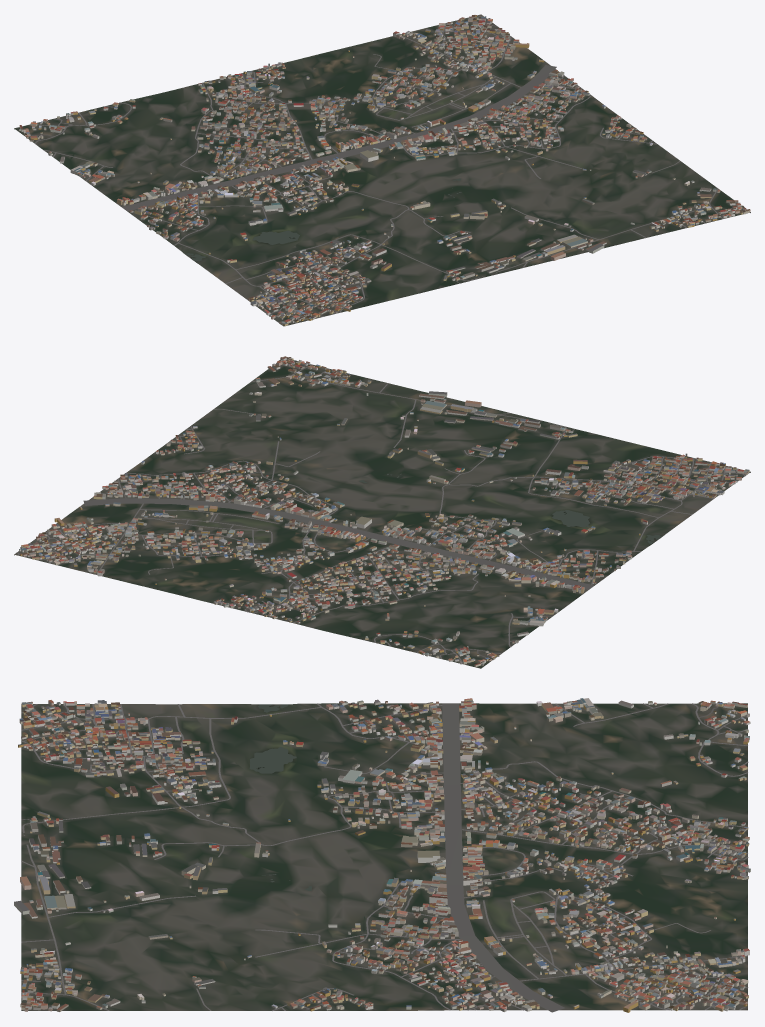
The picture shows the model from 3 angles, top to bottom: view 1: azimuth 30°, elevation 25°; view 2: azimuth 150°, elevation 25°; view 3: azimuth 270°, elevation 25°; orthographic projection. The views are drawn at different scales.
Parts seen in each view (by area): view 1: ground, buildings, roads, water; view 2: ground, buildings, roads, water; view 3: ground, buildings, roads, water.
Boxes of the visible parts, left/top/right/bottom form: ground: left=14, top=14, right=750, bottom=326; buildings: left=19, top=15, right=750, bottom=325; roads: left=31, top=16, right=722, bottom=323; water: left=185, top=178, right=461, bottom=261; ground: left=14, top=360, right=750, bottom=668; buildings: left=19, top=356, right=749, bottom=667; roads: left=17, top=364, right=745, bottom=664; water: left=359, top=473, right=661, bottom=543; ground: left=21, top=703, right=747, bottom=1010; buildings: left=14, top=698, right=750, bottom=1012; roads: left=21, top=703, right=748, bottom=1012; water: left=249, top=704, right=311, bottom=890.
Bounding box in the file's own units: 1420 × 20.01 × 1422.
